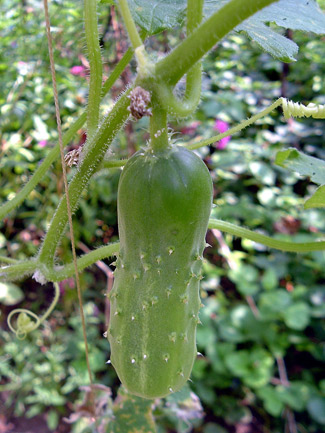cucumber: (105, 150, 214, 396)
